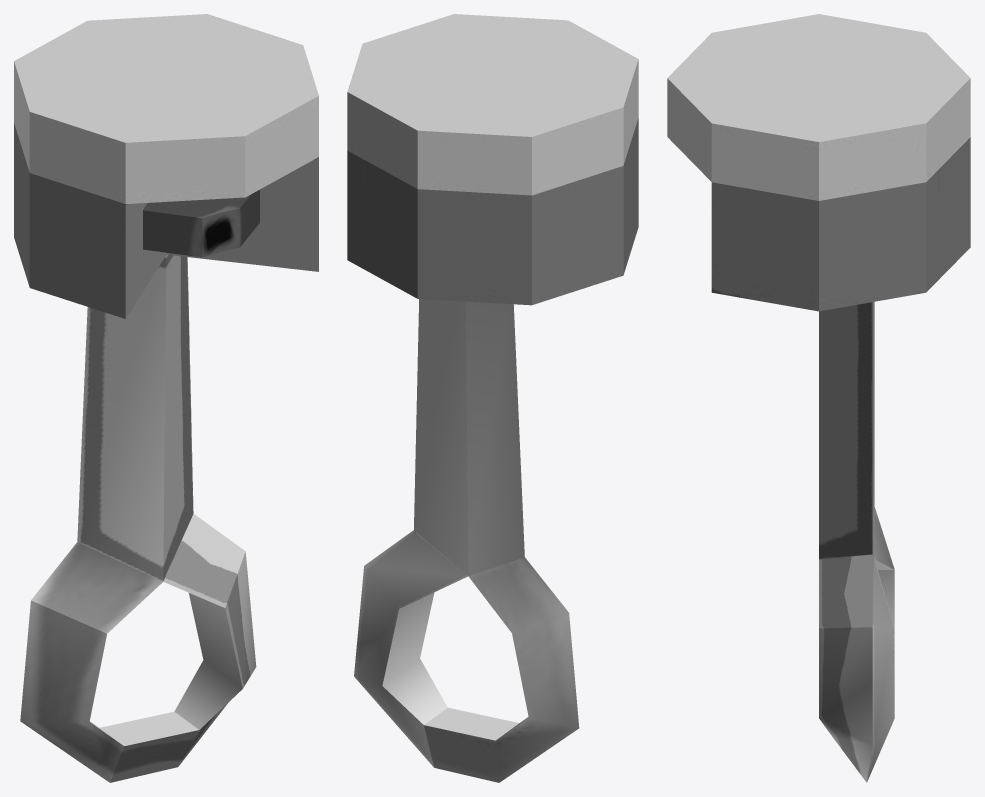
File: Kolben.fbx
3 renders of one model, left to right at view 1: azimuth 30°, elevation 25°; view 2: azimuth 150°, elevation 25°; view 3: azimuth 270°, elevation 25°, orthographic. The views are drawn at different scales.
Visible parts, largest first — view 1: Kolben; view 2: Kolben; view 3: Kolben.
Boxes of the visible parts, x1=… form: Kolben: x1=14, y1=14, x2=318, y2=782; Kolben: x1=347, y1=14, x2=638, y2=782; Kolben: x1=667, y1=14, x2=970, y2=782.
Bounding box in the file's own units: 67.06 × 168 × 67.06.
1 material, 1 textured.
